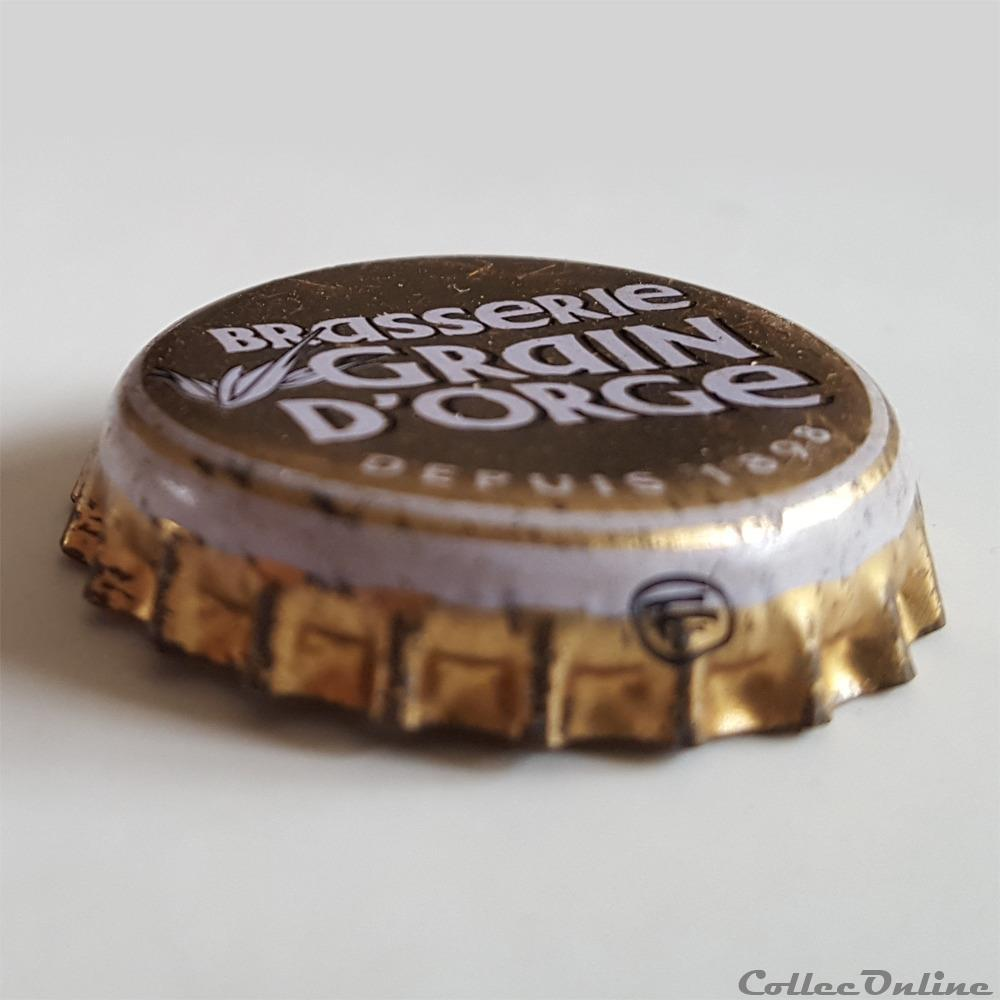metal: (62, 256, 946, 750)
